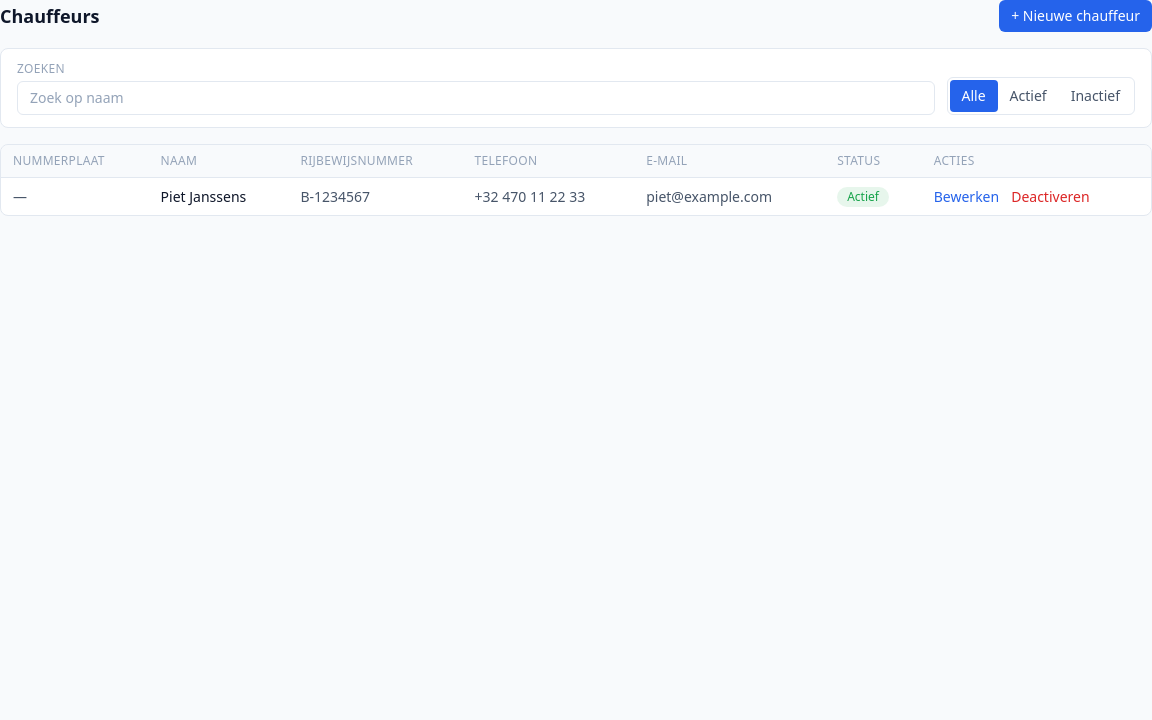
DriversSection › creating and editing › opens the edit form with the driver's stored values
Check: the text "Piet Janssens" is shown, box [149,178,288,215]
Click the button "Bewerken": (966, 196) [934,186,999,206]
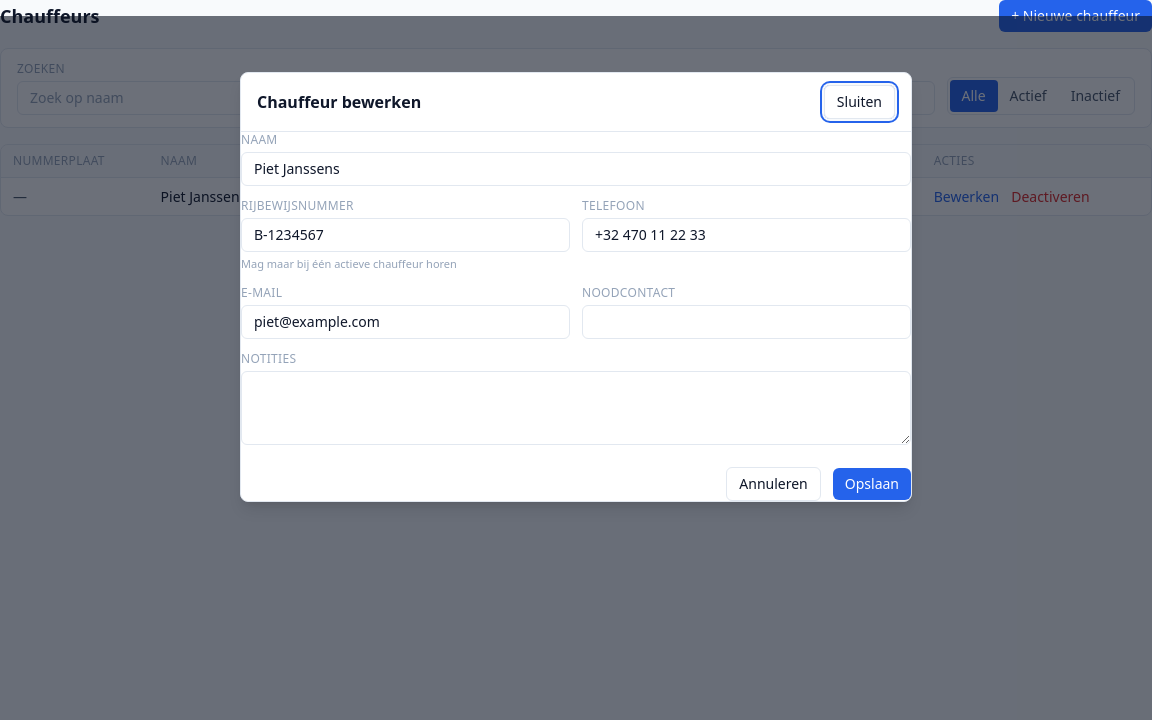
Check: the field labelled "Naam" holds "Piet Janssens", box [241,152,911,186]
Check: the field labelled "Rijbewijsnummer" holds "B-1234567", box [241,218,570,252]
